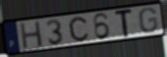3: (46, 18, 65, 46)
6: (92, 12, 111, 41)
C: (68, 16, 90, 43)
G: (138, 7, 160, 34)
H: (19, 20, 44, 51)
T: (114, 7, 134, 39)
